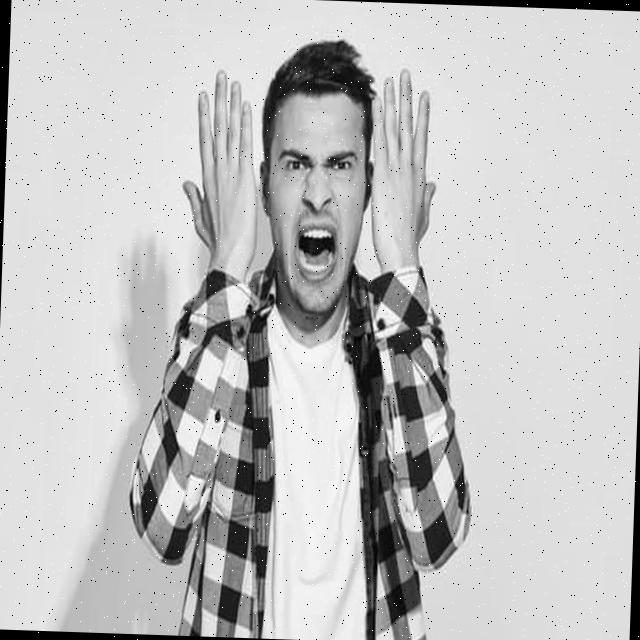Angry: (263, 94, 369, 316)
